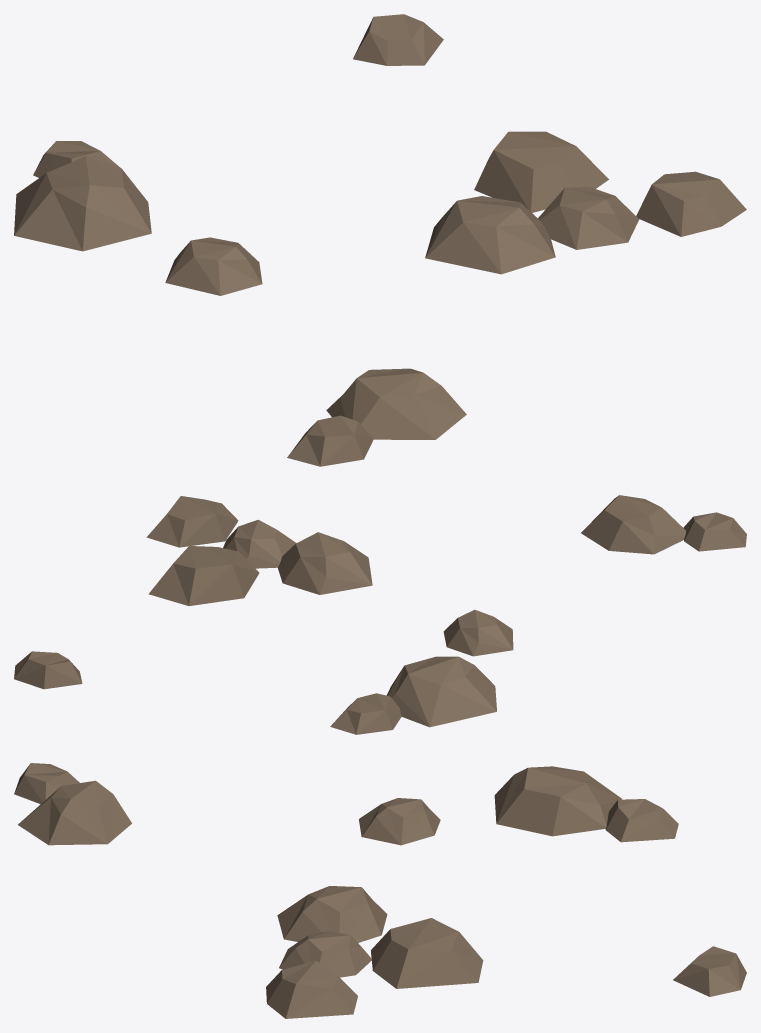
File: SM_Generic_Small_Rocks_01.glb
The picture shows the model from 3 angles, top to bottom: view 1: azimuth 30°, elevation 25°; view 2: azimuth 150°, elevation 25°; view 3: azimuth 270°, elevation 25°; orthographic projection. The views are drawn at different scales.
Visible parts, largest first — view 1: SM_Generic_Small_Rocks_01; view 2: SM_Generic_Small_Rocks_01; view 3: SM_Generic_Small_Rocks_01.
Part boxes in pixels (x1,y1,x2,y2): SM_Generic_Small_Rocks_01: (14, 14, 746, 466); SM_Generic_Small_Rocks_01: (14, 495, 746, 734); SM_Generic_Small_Rocks_01: (14, 763, 746, 1018).
Size of the model in its own units: 1.31 by 0.095 by 1.63.
1 material, 1 textured.
